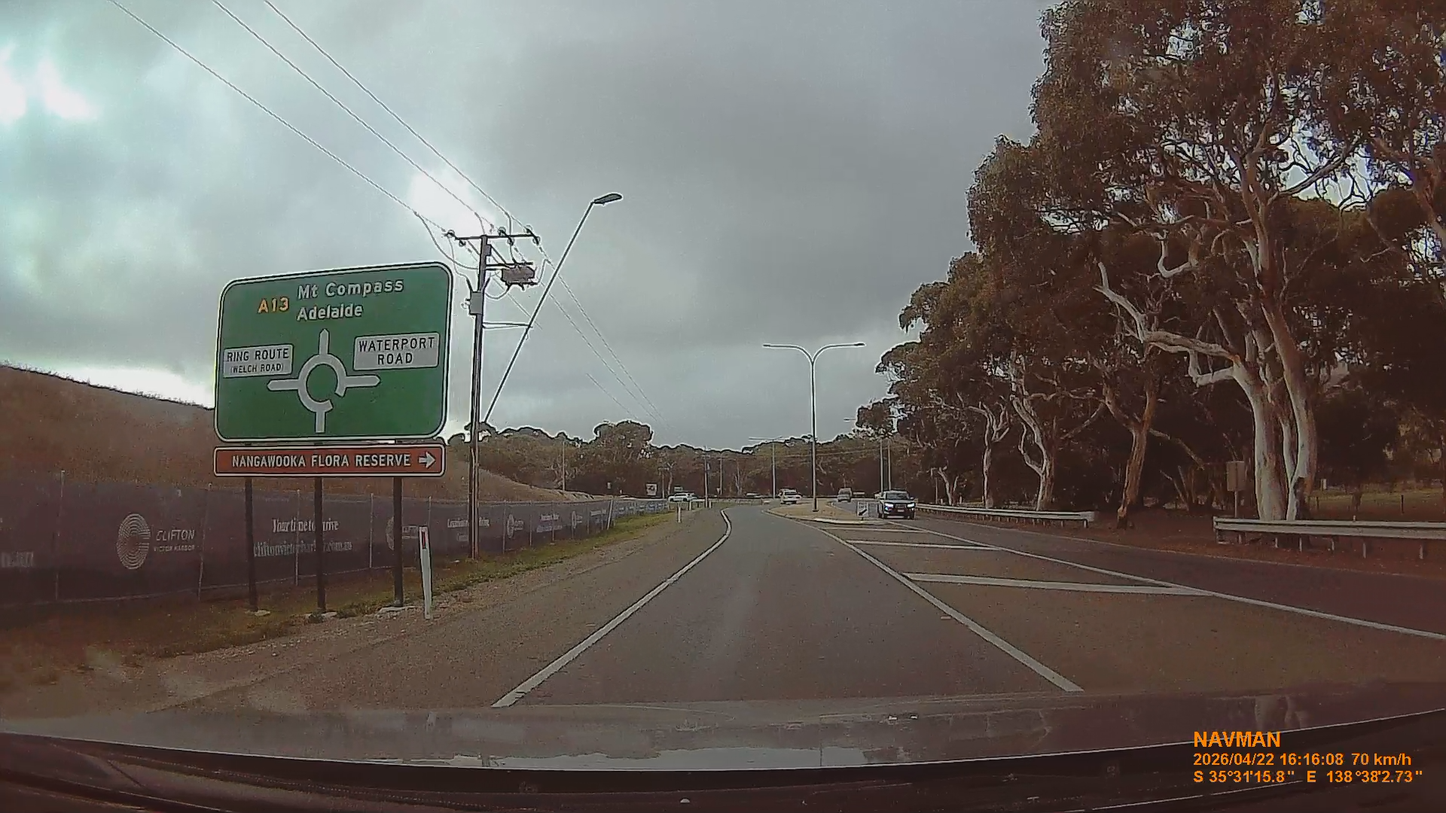road barriers: (1214, 518, 1445, 560), (917, 505, 1094, 528)
